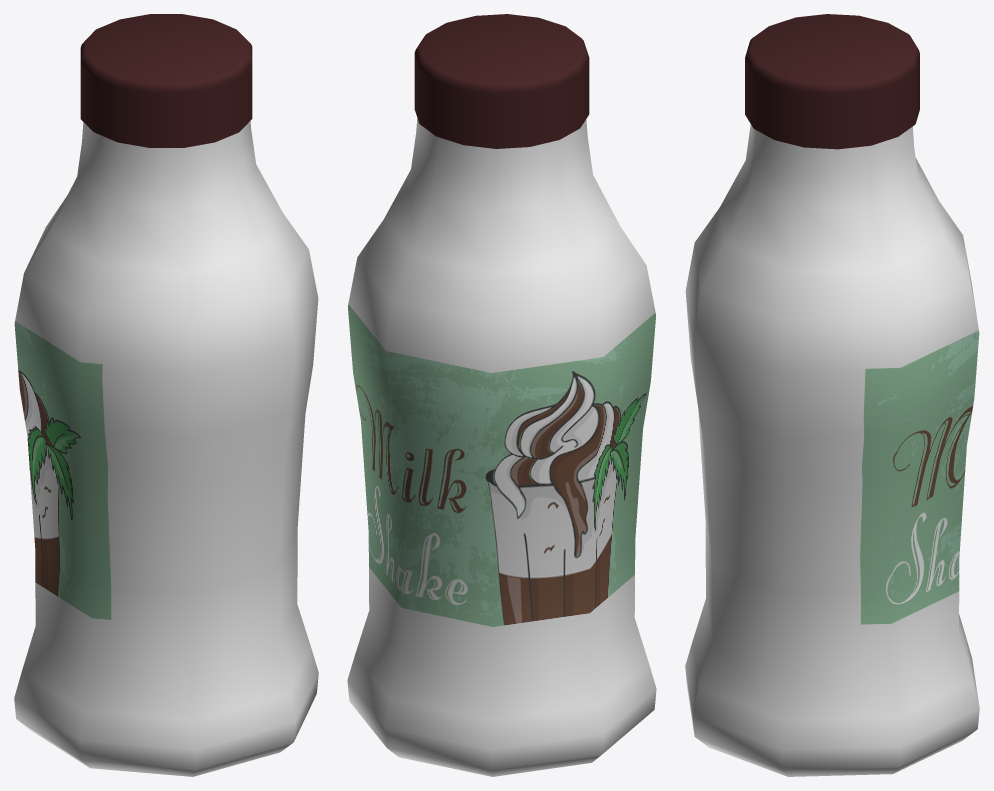
File: Milkshake.FBX
The picture shows the model from 3 angles, left to right: view 1: azimuth 30°, elevation 25°; view 2: azimuth 150°, elevation 25°; view 3: azimuth 270°, elevation 25°; orthographic projection.
Visible parts, largest first — view 1: Milkshake; view 2: Milkshake; view 3: Milkshake.
Part boxes in pixels (x1,y1,x2,y2): Milkshake: (14, 14, 318, 776); Milkshake: (347, 14, 656, 776); Milkshake: (685, 14, 979, 776).
Size of the model in its own units: 2.66 by 6.76 by 2.66.
1 material, 1 textured.
